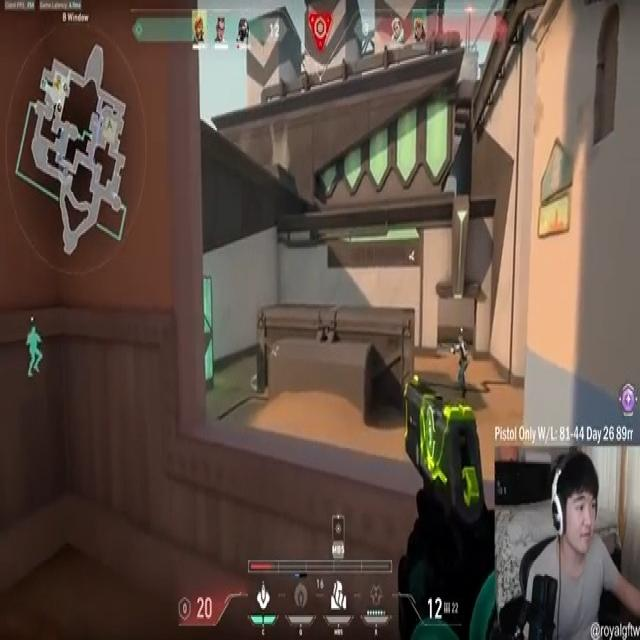ally: (448, 330, 476, 403)
ally behind wall: (25, 319, 42, 377)
